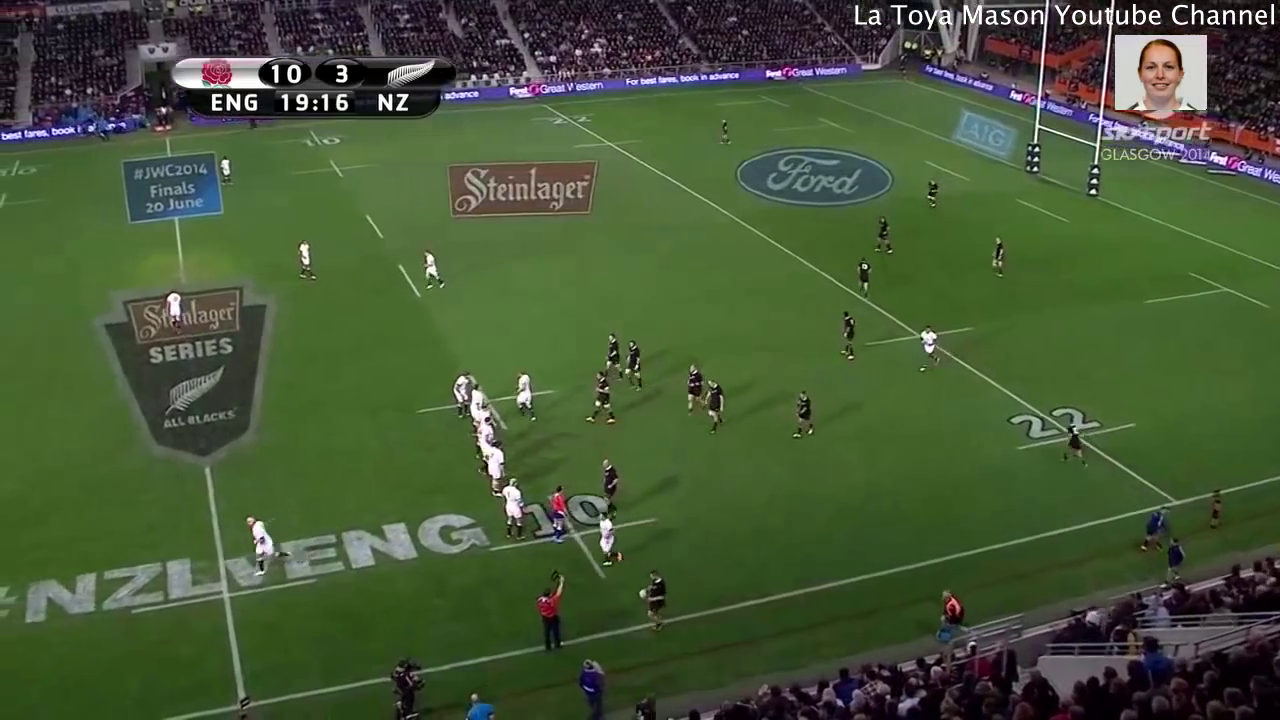10_metre: (488, 489, 659, 583), (413, 372, 561, 439), (288, 157, 379, 180), (265, 128, 355, 149)
ball: (637, 582, 651, 604)
player: (240, 510, 294, 578), (583, 369, 620, 428), (496, 476, 528, 542), (592, 509, 626, 571), (643, 568, 673, 637), (596, 456, 627, 521), (509, 367, 538, 428), (787, 384, 816, 444), (546, 481, 571, 550), (985, 228, 1013, 286), (620, 336, 648, 393), (413, 248, 448, 293), (914, 320, 942, 376), (703, 378, 729, 437), (680, 361, 705, 418), (293, 237, 321, 287), (869, 210, 897, 258), (601, 330, 625, 384), (161, 288, 186, 338), (838, 309, 858, 366), (487, 438, 505, 498), (853, 252, 873, 304), (213, 154, 238, 188), (454, 370, 471, 417), (923, 176, 943, 212), (475, 416, 495, 448), (715, 112, 733, 147), (469, 381, 483, 414), (473, 402, 492, 425)
post: (1021, 51, 1108, 201)
